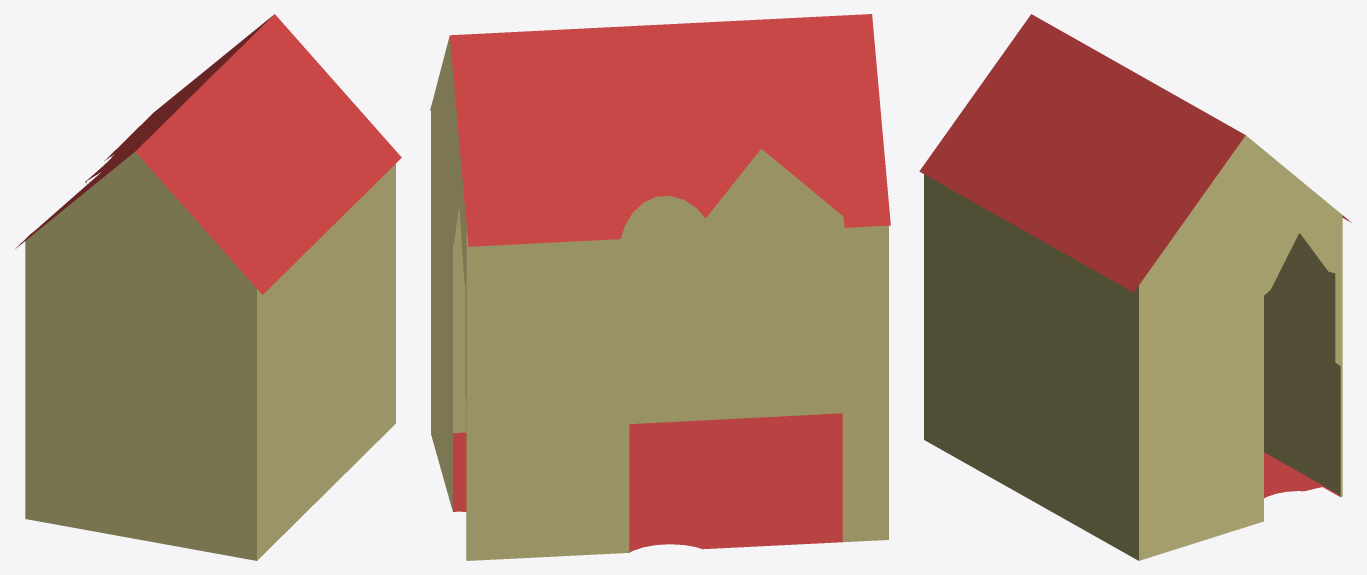
The picture shows the model from 3 angles, left to right: view 1: azimuth 30°, elevation 25°; view 2: azimuth 150°, elevation 25°; view 3: azimuth 270°, elevation 25°; orthographic projection. The views are drawn at different scales.
Size of the model in its own units: 22.2 by 21.36 by 21.31.
